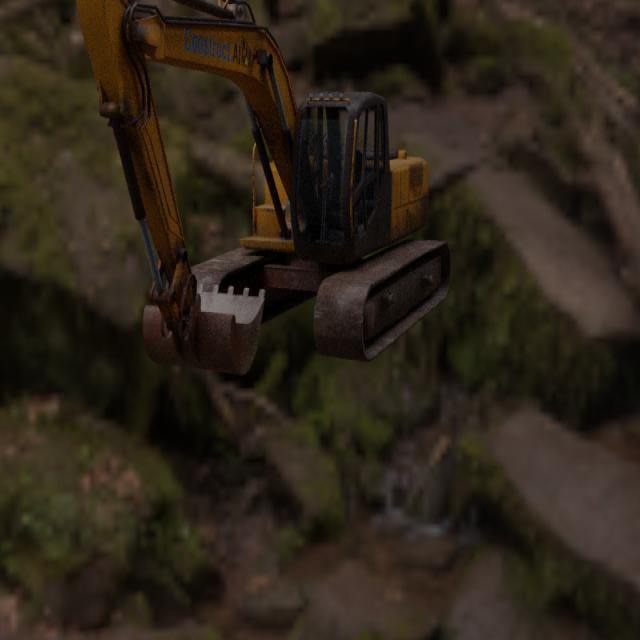excavator: (75, 0, 451, 376)
